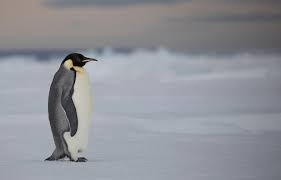emporer: (41, 48, 112, 168)
